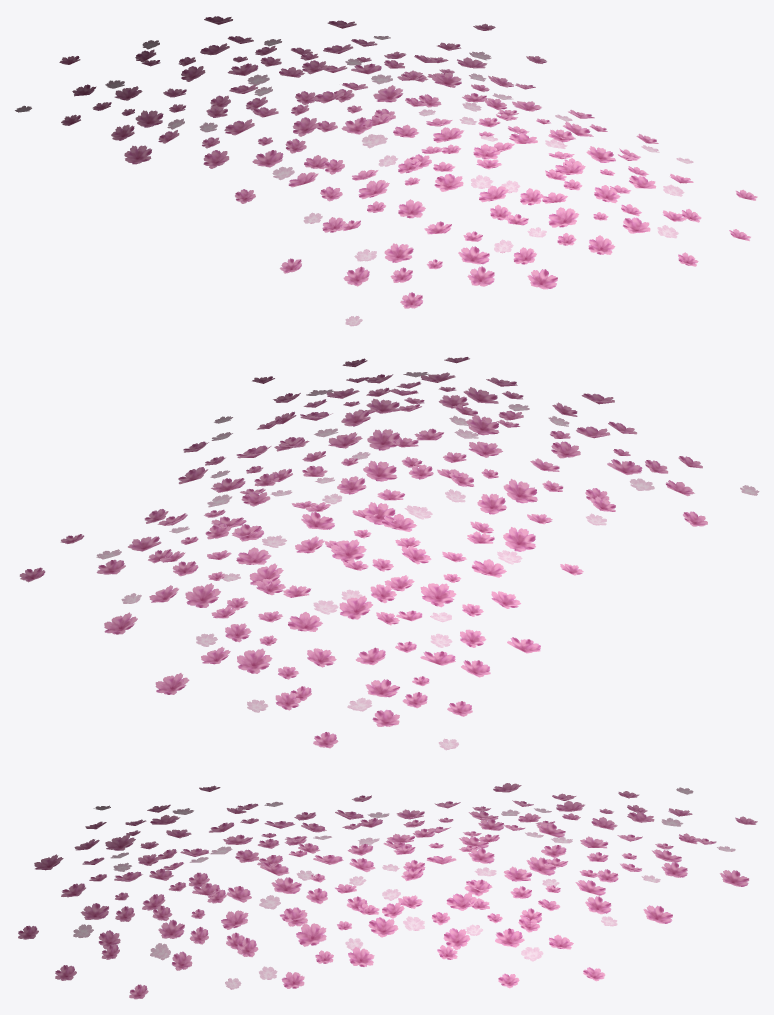
File: Flowapatch.obj
3 views of the same model, one above another, from view 1: azimuth 30°, elevation 25°; view 2: azimuth 150°, elevation 25°; view 3: azimuth 270°, elevation 25° (orthographic). The views are drawn at different scales.
Parts seen in each view (by area): view 1: polySurface274; view 2: polySurface274; view 3: polySurface274.
Boxes of the visible parts, <box> form: polySurface274: <box>15,16,757,326</box>; polySurface274: <box>19,357,759,750</box>; polySurface274: <box>18,783,757,999</box>.
Size of the model in its own units: 9.97 by 1.23 by 14.07.
Materials: 1 (1 with a texture image).
